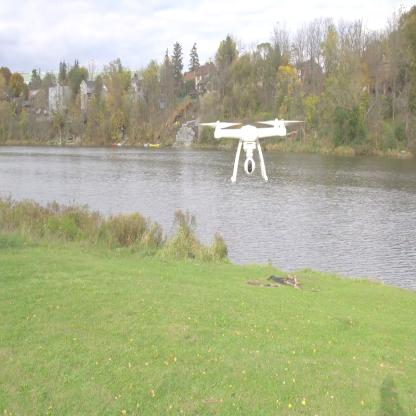Drone: (184, 90, 322, 208), (102, 80, 108, 102)
